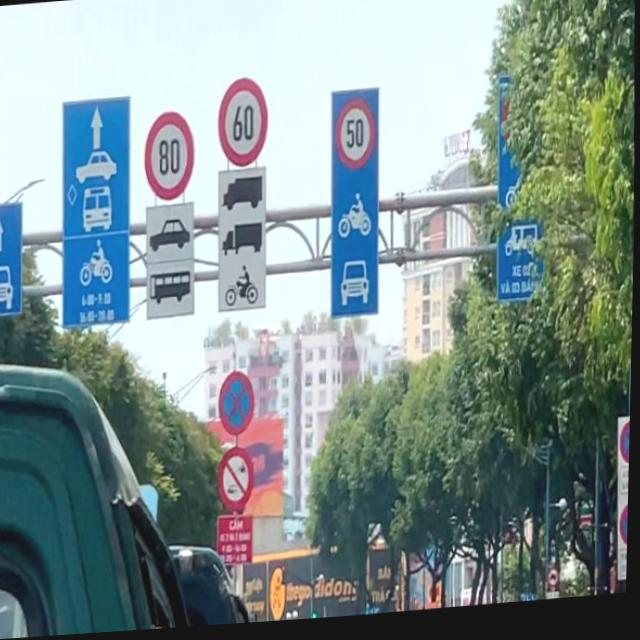Cam dung xe va do xe: (218, 373, 257, 441), (620, 428, 632, 474)
Toc do toi da cho phep: (216, 78, 271, 173), (143, 111, 196, 205), (334, 101, 377, 176)
